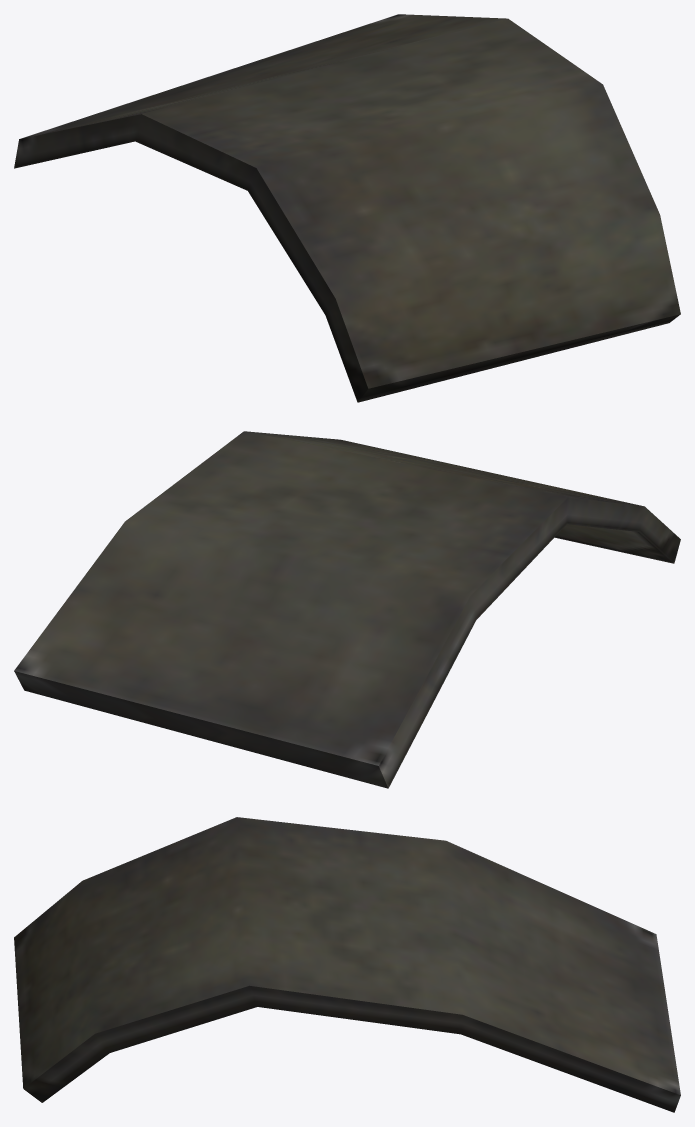
File: comdome_metal_plate02.dae
The picture shows the model from 3 angles, top to bottom: view 1: azimuth 30°, elevation 25°; view 2: azimuth 150°, elevation 25°; view 3: azimuth 270°, elevation 25°; orthographic projection. The views are drawn at different scales.
Parts seen in each view (by area): view 1: polySurface708; view 2: polySurface708; view 3: polySurface708.
Part boxes in pixels (x1,y1,x2,y2): polySurface708: [14, 14, 680, 402]; polySurface708: [14, 431, 680, 788]; polySurface708: [14, 817, 680, 1112].
Size of the model in its own units: 0.7045 by 0.2639 by 1.08.
